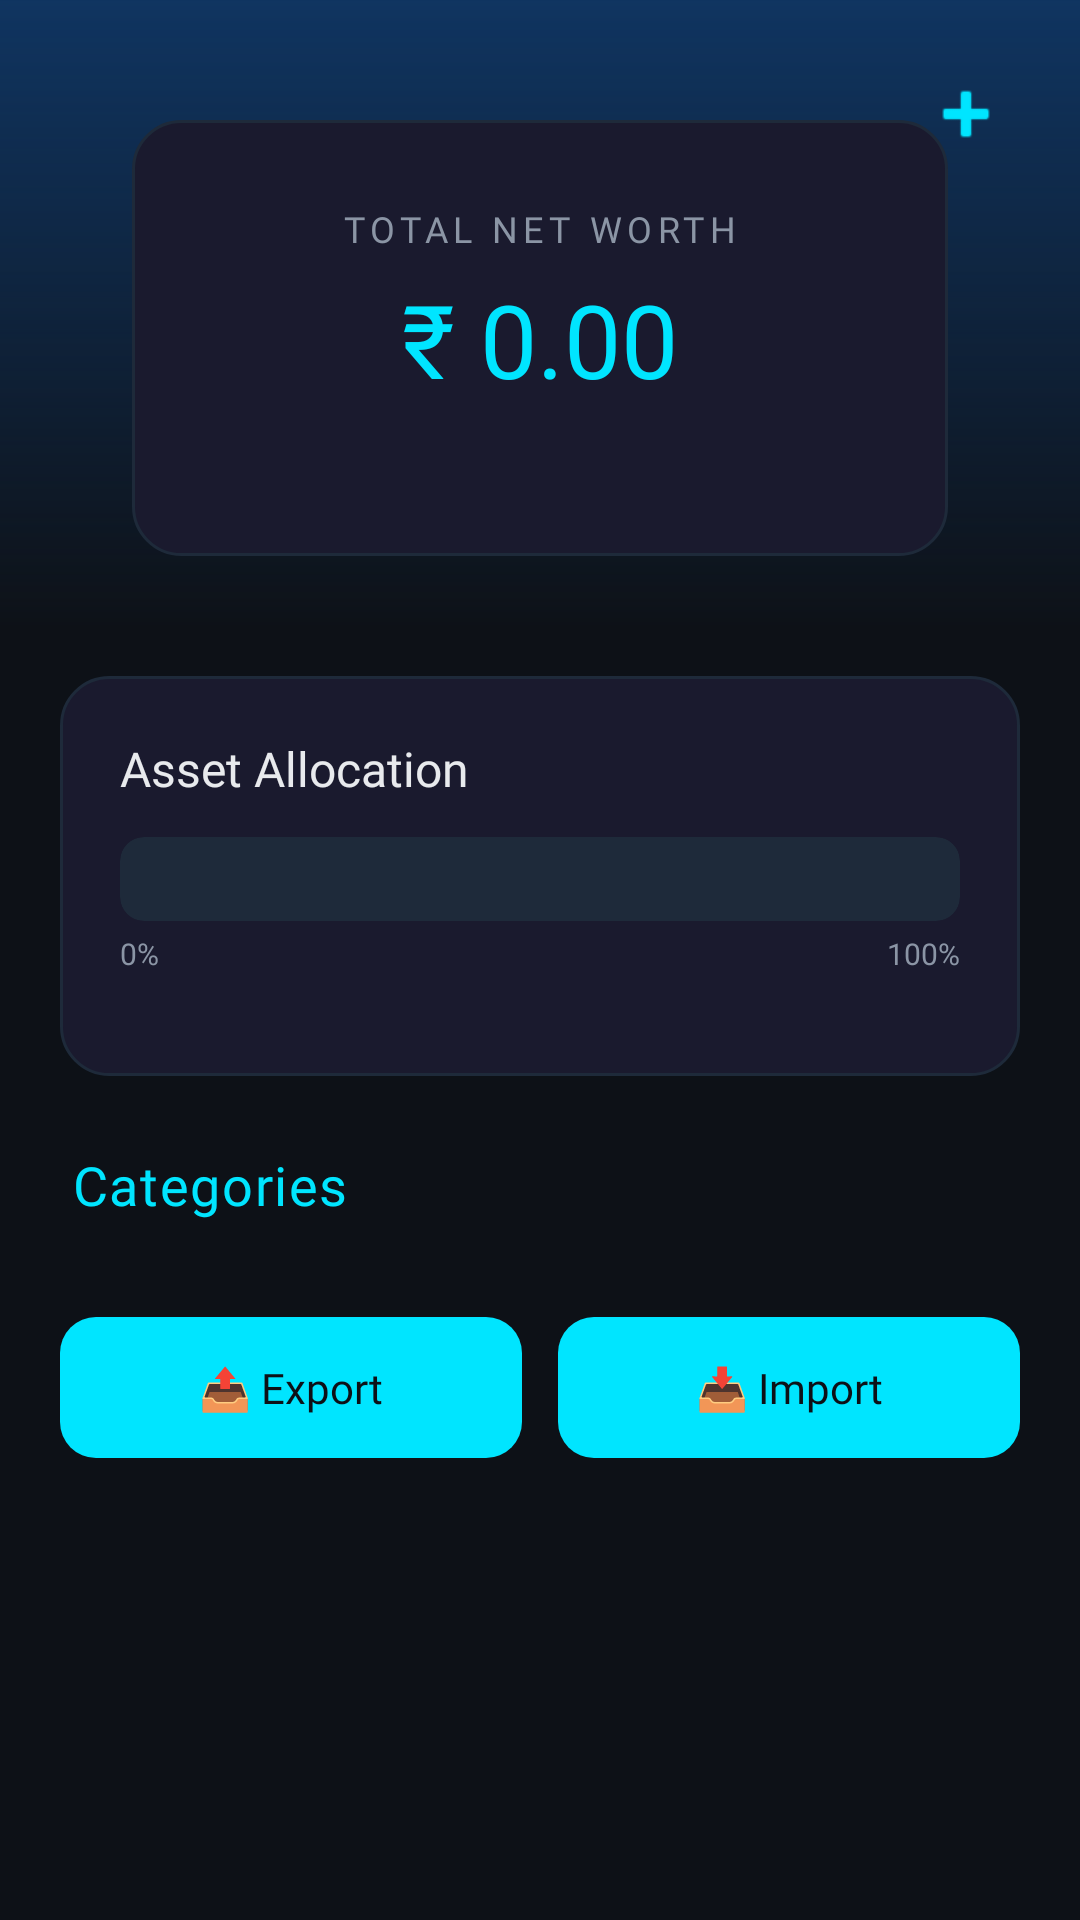

Icon click points for this 1080 × 1920 phone screenshot, format point (x, y):
Add Category: point (966, 114)
